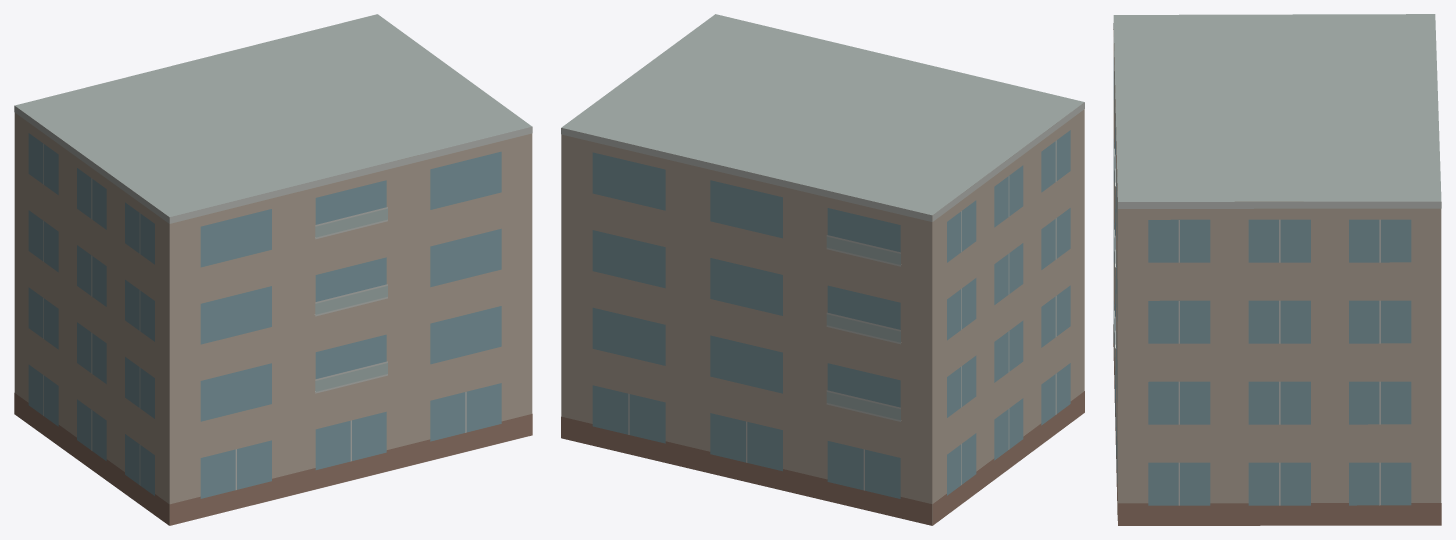
The model's file is survey-upis-32995982.glb.
3 views of the same model, side by side, from view 1: azimuth 30°, elevation 25°; view 2: azimuth 150°, elevation 25°; view 3: azimuth 270°, elevation 25° (orthographic). The views are drawn at different scales.
Visible parts, largest first — view 1: survey-upis-32995982.tmp; view 2: survey-upis-32995982.tmp; view 3: survey-upis-32995982.tmp.
Part boxes in pixels (box(x1,y1,x2,y2)): survey-upis-32995982.tmp: box(14, 14, 532, 525); survey-upis-32995982.tmp: box(561, 14, 1084, 525); survey-upis-32995982.tmp: box(1113, 14, 1441, 525).
Bounding box in the file's own units: 13.94 × 11.2 × 10.29.
